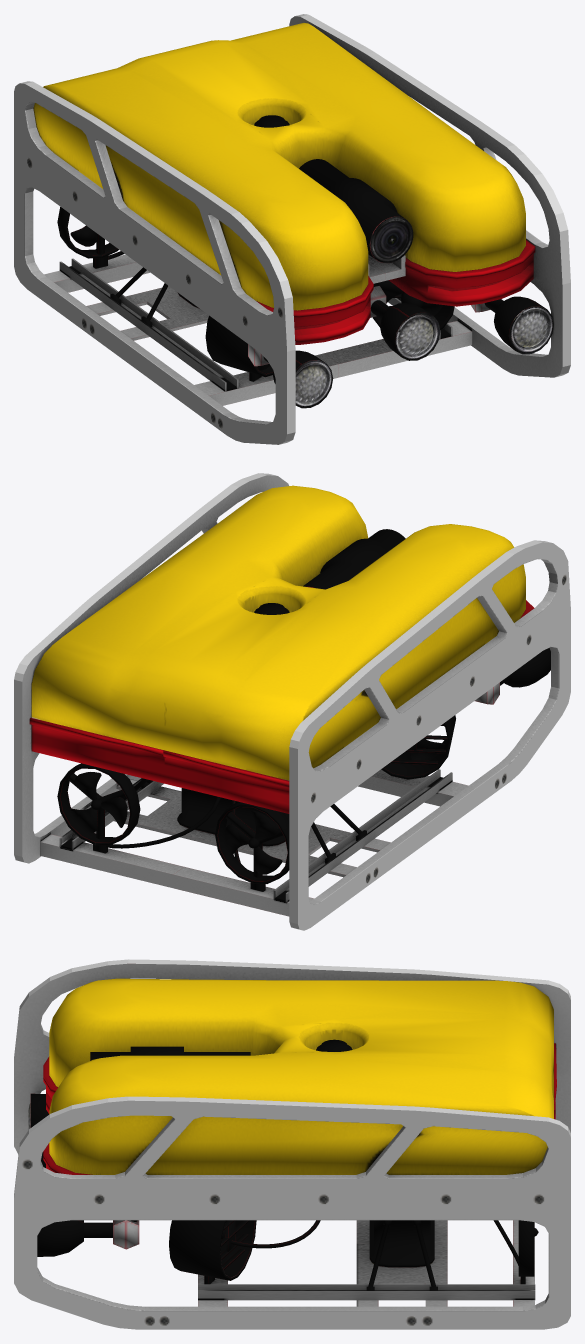
Rendered from SAAB_Falcon.dae.
The picture shows the model from 3 angles, top to bottom: view 1: azimuth 30°, elevation 25°; view 2: azimuth 150°, elevation 25°; view 3: azimuth 270°, elevation 25°; orthographic projection.
Parts seen in each view (by area): view 1: Falcon; view 2: Falcon; view 3: Falcon.
Part boxes in pixels (x1=…): Falcon: x1=14, y1=14, x2=570, y2=444; Falcon: x1=14, y1=473, x2=570, y2=930; Falcon: x1=14, y1=959, x2=570, y2=1329.
Bounding box in the file's own units: 1.2 × 2 × 0.9064.
Materials: 1 (1 with a texture image).
